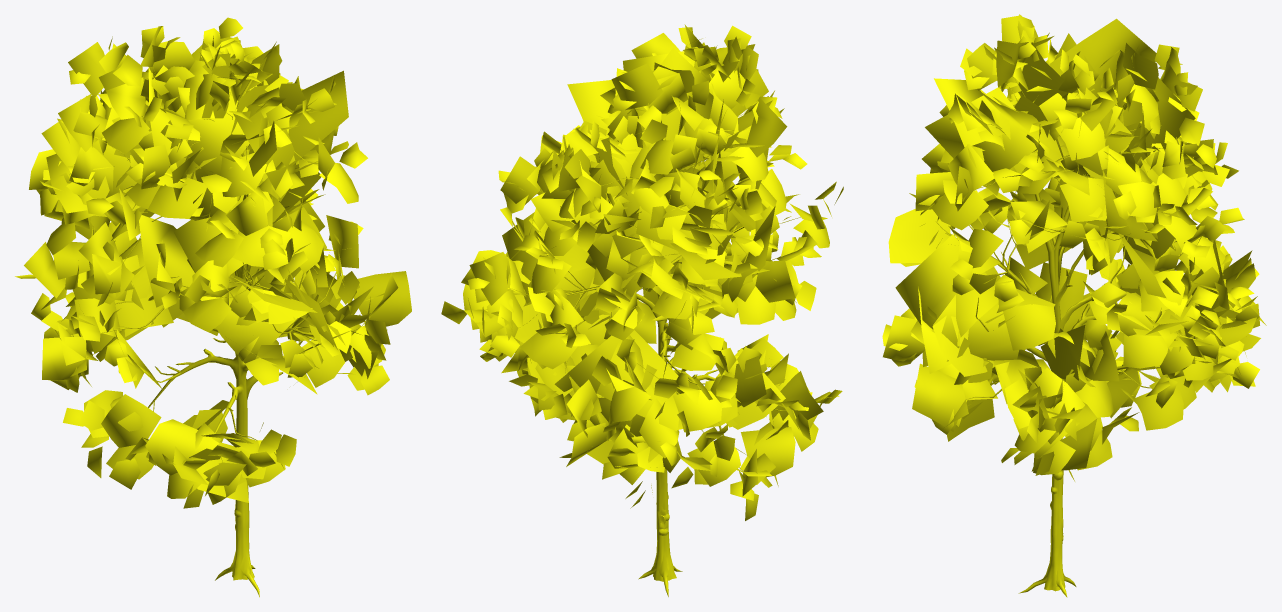
The model's file is maya-tree.glb.
The picture shows the model from 3 angles, left to right: view 1: azimuth 30°, elevation 25°; view 2: azimuth 150°, elevation 25°; view 3: azimuth 270°, elevation 25°; orthographic projection. The views are drawn at different scales.
Parts seen in each view (by area): view 1: Broadleaf_Desktop_Field_5_LOD0; view 2: Broadleaf_Desktop_Field_5_LOD0; view 3: Broadleaf_Desktop_Field_5_LOD0.
Boxes of the visible parts, box(x1,y1,x2,y2) form: Broadleaf_Desktop_Field_5_LOD0: box(15, 17, 411, 597); Broadleaf_Desktop_Field_5_LOD0: box(441, 24, 843, 596); Broadleaf_Desktop_Field_5_LOD0: box(882, 14, 1266, 597).
Size of the model in its own units: 11.85 by 18.75 by 11.77.
2 materials, 2 textured.
